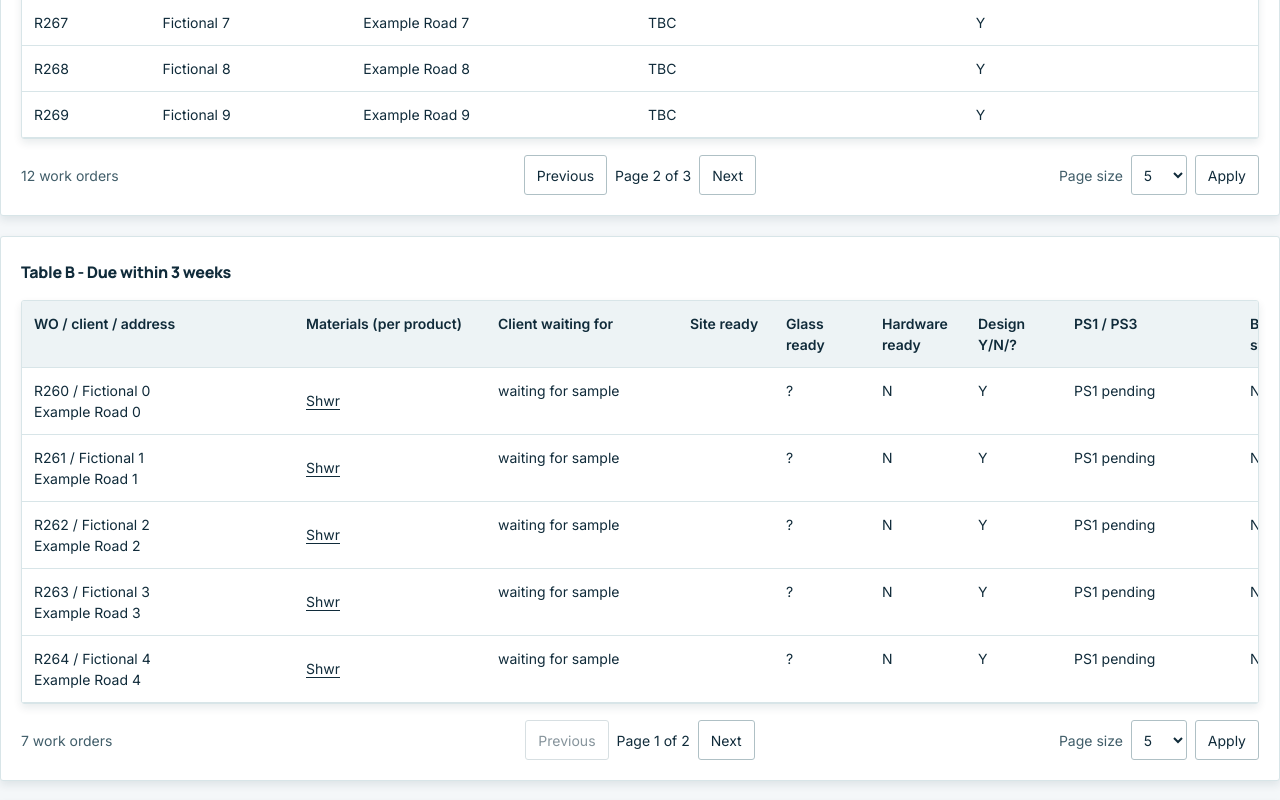
Scenario: published Work Orders tables › preserves the other pager and search in next links and material preview works
(page scrolled)
Click the button with aria-label "View material description": (326, 400) [306,380,346,420]
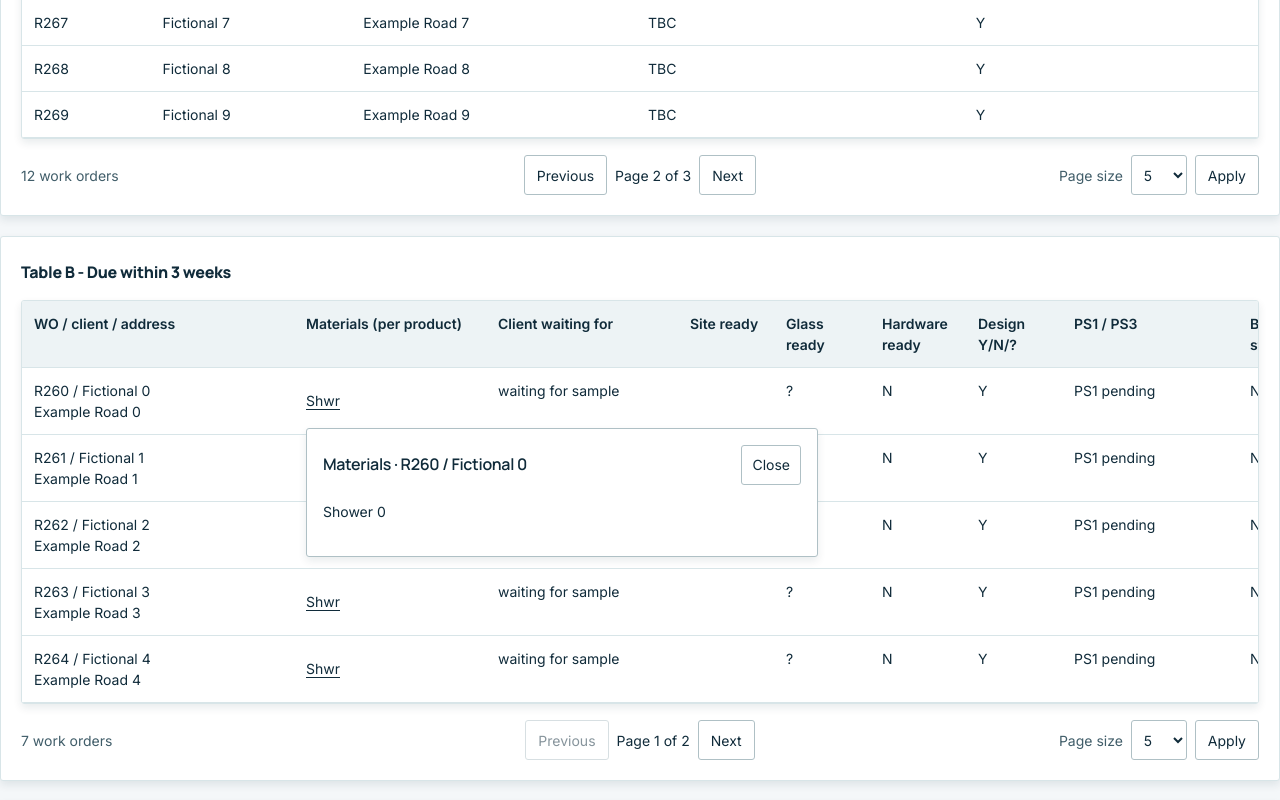
expect the dialog shows "Shower 0": met, box [323,503,386,520]
